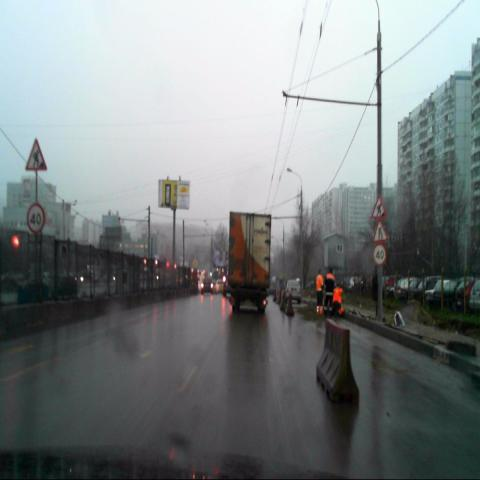1_20_2: (374, 220, 386, 243)
